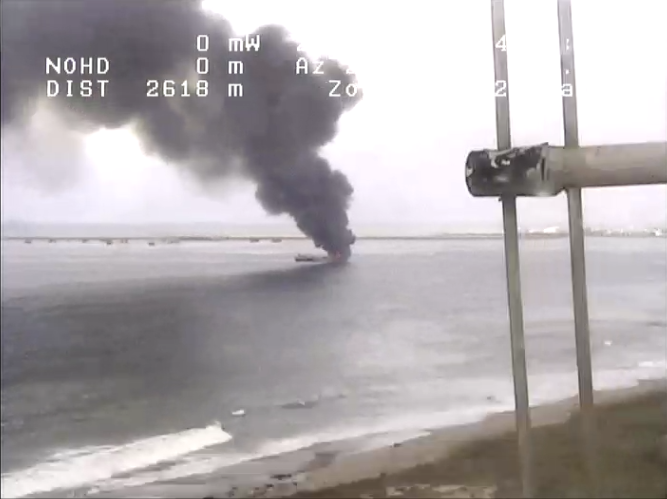FIRE_ONBOARD: (220, 107, 418, 304)
FISHING_VESSEL: (274, 226, 363, 269)
